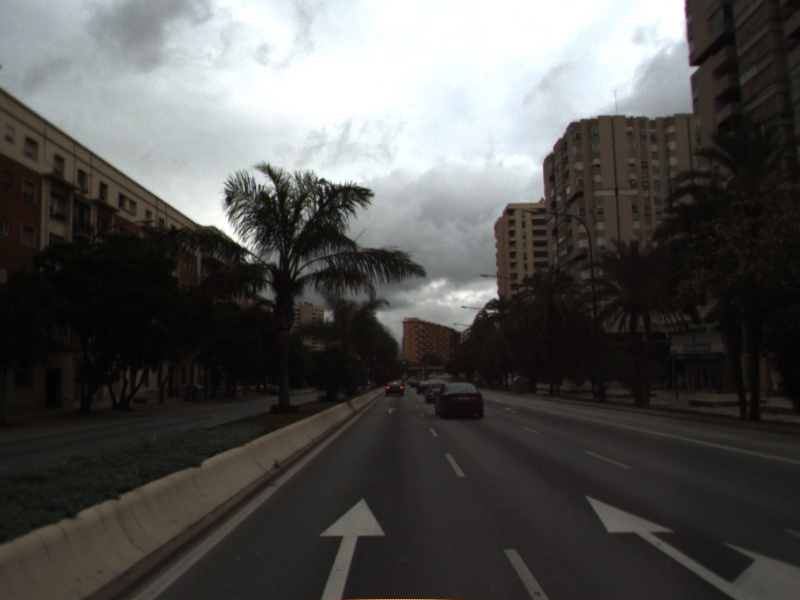RIGHT: (500, 404, 522, 415)
STRAIGHT: (315, 495, 388, 600), (383, 406, 399, 415)
STRAIGHT_RIGHT: (583, 493, 800, 600)
